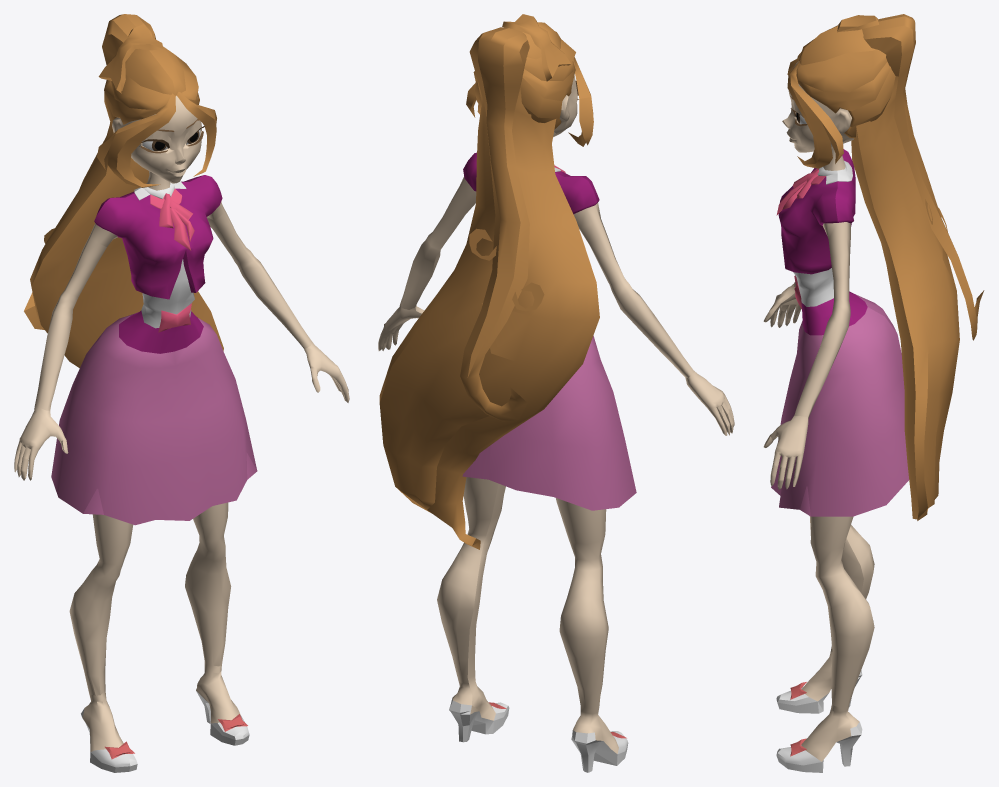
The model's file is fail_girl_fbx (1).fbx.
3 renders of one model, left to right at view 1: azimuth 30°, elevation 25°; view 2: azimuth 150°, elevation 25°; view 3: azimuth 270°, elevation 25°, orthographic. The views are drawn at different scales.
Parts seen in each view (by area): view 1: polySurface82, polySurface9, polySurface58, polySurface42, polySurface101, polySurface98, polySurface81, polySurface69, polySurface103; view 2: polySurface9, polySurface82, polySurface42, polySurface101, polySurface98, polySurface103, polySurface58, polySurface81; view 3: polySurface9, polySurface82, polySurface98, polySurface58, polySurface42, polySurface103, polySurface101, polySurface81, polySurface69.
Boxes of the visible parts, bbox=[...] form: polySurface82: bbox=[51, 312, 257, 525]; polySurface9: bbox=[24, 14, 223, 368]; polySurface58: bbox=[94, 175, 222, 353]; polySurface42: bbox=[14, 201, 349, 480]; polySurface101: bbox=[69, 514, 133, 751]; polySurface98: bbox=[185, 502, 240, 723]; polySurface81: bbox=[112, 95, 205, 190]; polySurface69: bbox=[134, 181, 194, 332]; polySurface103: bbox=[81, 691, 249, 772]; polySurface9: bbox=[379, 14, 599, 549]; polySurface82: bbox=[462, 336, 636, 510]; polySurface42: bbox=[378, 176, 734, 435]; polySurface101: bbox=[556, 498, 618, 753]; polySurface98: bbox=[437, 477, 505, 720]; polySurface103: bbox=[449, 698, 628, 772]; polySurface58: bbox=[463, 152, 599, 214]; polySurface81: bbox=[553, 75, 577, 137]; polySurface9: bbox=[787, 14, 984, 520]; polySurface82: bbox=[771, 294, 909, 516]; polySurface98: bbox=[801, 516, 874, 761]; polySurface58: bbox=[778, 149, 867, 335]; polySurface42: bbox=[763, 222, 850, 489]; polySurface103: bbox=[776, 670, 862, 772]; polySurface101: bbox=[802, 525, 874, 701]; polySurface81: bbox=[782, 61, 853, 170]; polySurface69: bbox=[776, 160, 852, 309].
Bounding box in the file's own units: 7.37 × 15.08 × 4.2.
